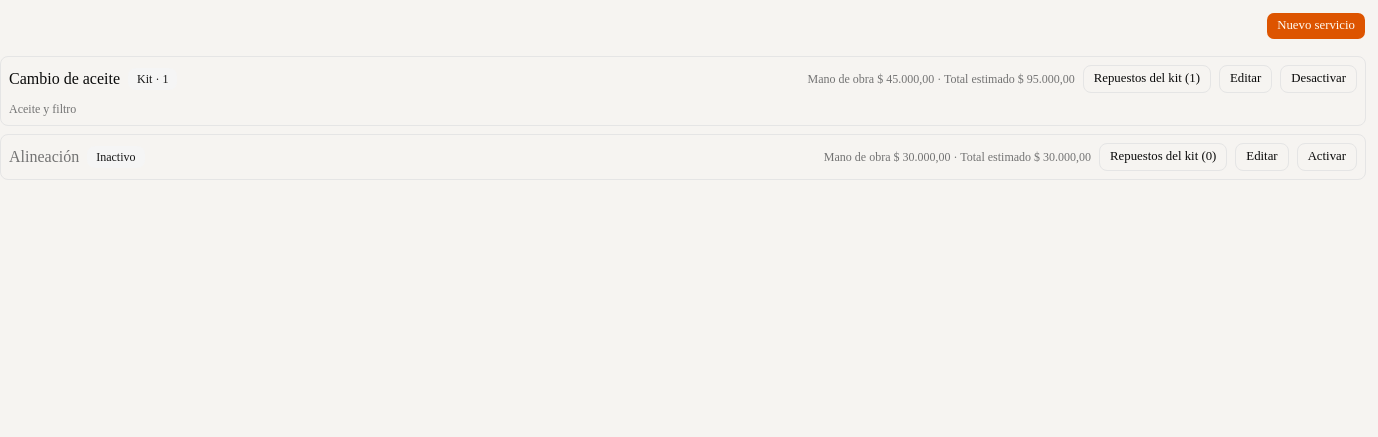
Scenario: ServiciosSection › expande el kit de un servicio y muestra su tabla de repuestos
This screenshot has width=1378, height=437.
Click the button "Repuestos del kit (1)" at {"x": 1147, "y": 79}, box [1083,65,1211,93]
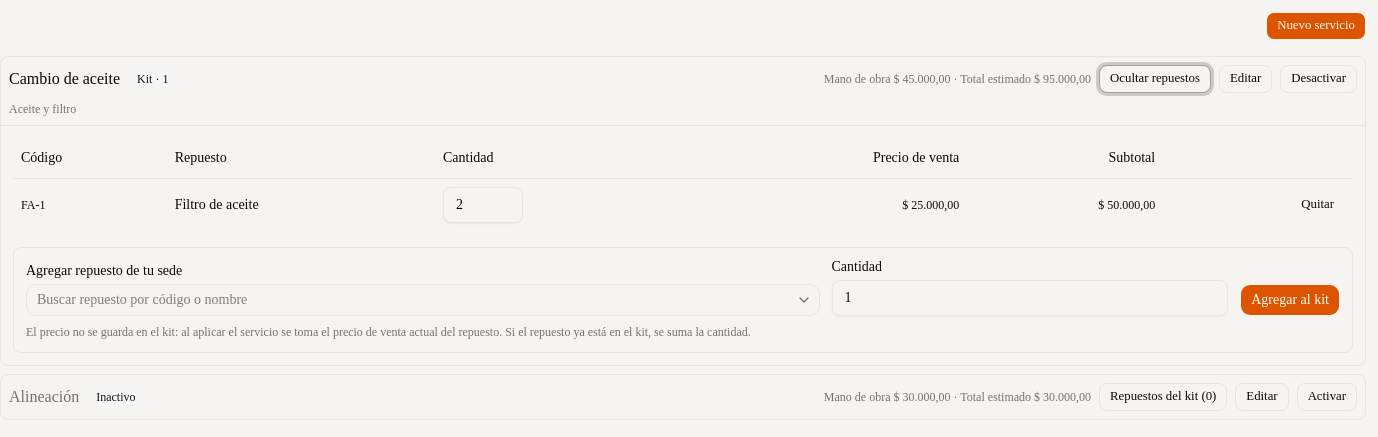
Check: the text "FA-1" is shown, box [13,178,167,230]
Check: the text "Filtro de aceite" is shown, box [167,178,435,230]
Check: the number field named "Cantidad de Filtro de aceite" holds "2", box [443,186,523,222]
